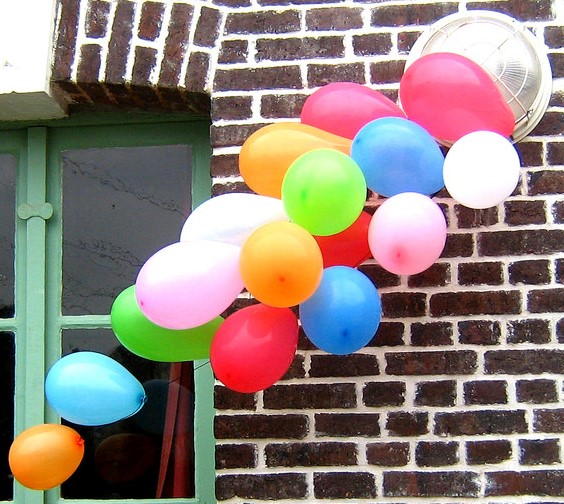Balloon: (401, 57, 518, 140), (135, 240, 245, 328), (45, 351, 147, 426), (211, 304, 298, 391), (351, 117, 448, 195), (282, 147, 367, 235), (300, 266, 382, 354), (244, 221, 324, 308), (372, 192, 449, 275), (446, 132, 519, 208), (8, 424, 85, 489)
